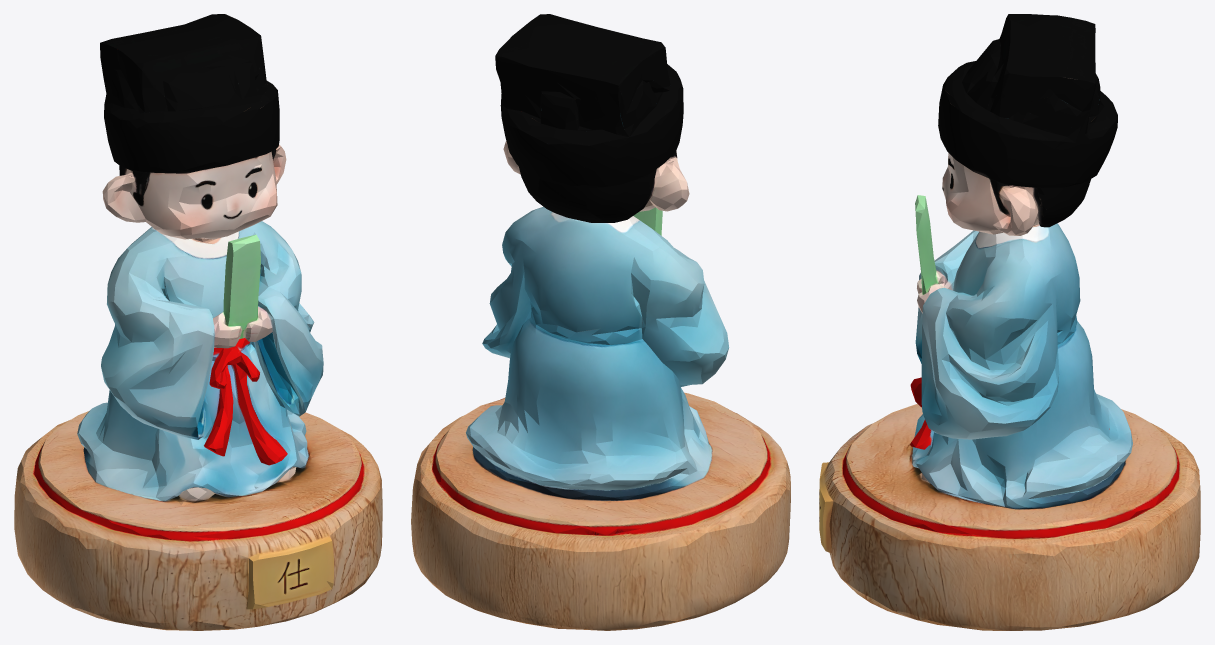
File: advisor_red.glb
The picture shows the model from 3 angles, left to right: view 1: azimuth 30°, elevation 25°; view 2: azimuth 150°, elevation 25°; view 3: azimuth 270°, elevation 25°; orthographic projection. The views are drawn at different scales.
Parts seen in each view (by area): view 1: Mesh; view 2: Mesh; view 3: Mesh.
Boxes of the visible parts, left/top/right/bottom form: Mesh: left=14, top=14, right=382, bottom=630; Mesh: left=411, top=14, right=790, bottom=630; Mesh: left=819, top=14, right=1200, bottom=630.
Size of the model in its own units: 1.21 by 1.9 by 1.27.
1 material, 1 textured.
